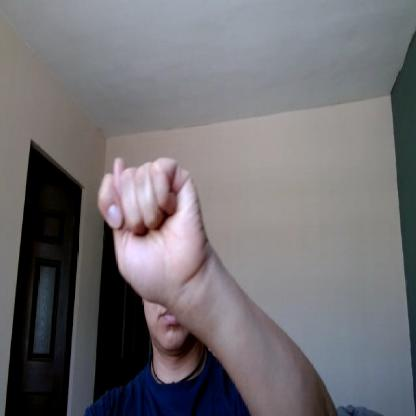T: (98, 153, 204, 296)
